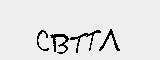В: (50, 31, 69, 57)
Л: (98, 25, 122, 54)
С: (34, 28, 51, 55)
Т: (83, 28, 100, 54), (71, 30, 87, 56)
